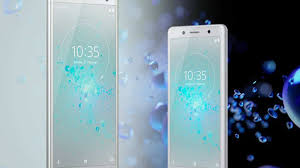sony: (43, 1, 122, 168), (164, 23, 231, 168)
